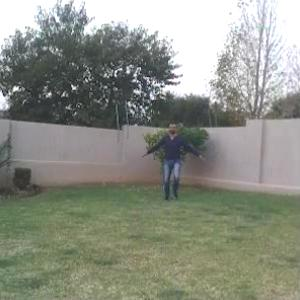land: (146, 114, 213, 204)
